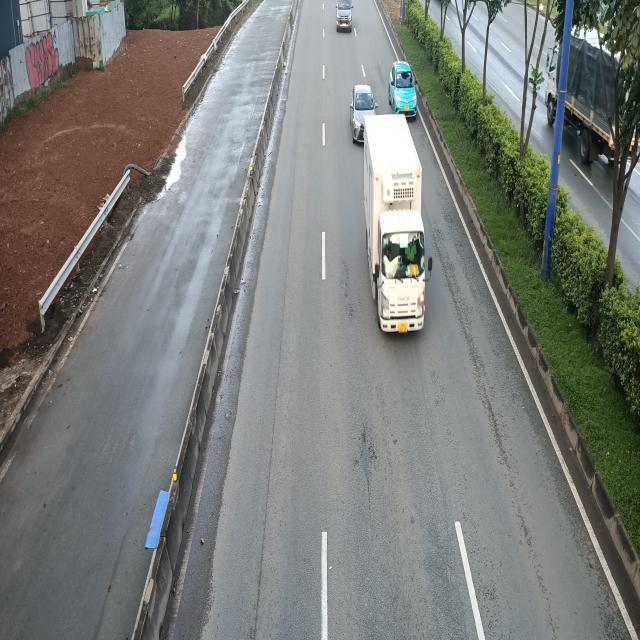car: (390, 57, 416, 116)
truck: (362, 116, 432, 335)
